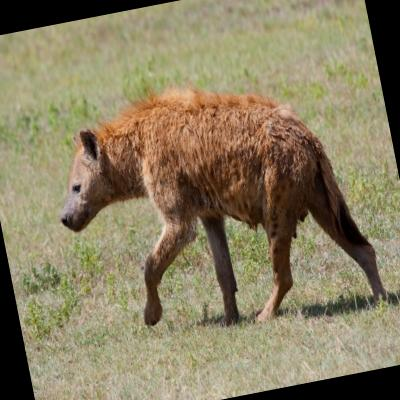hyenas: (32, 36, 400, 373)
